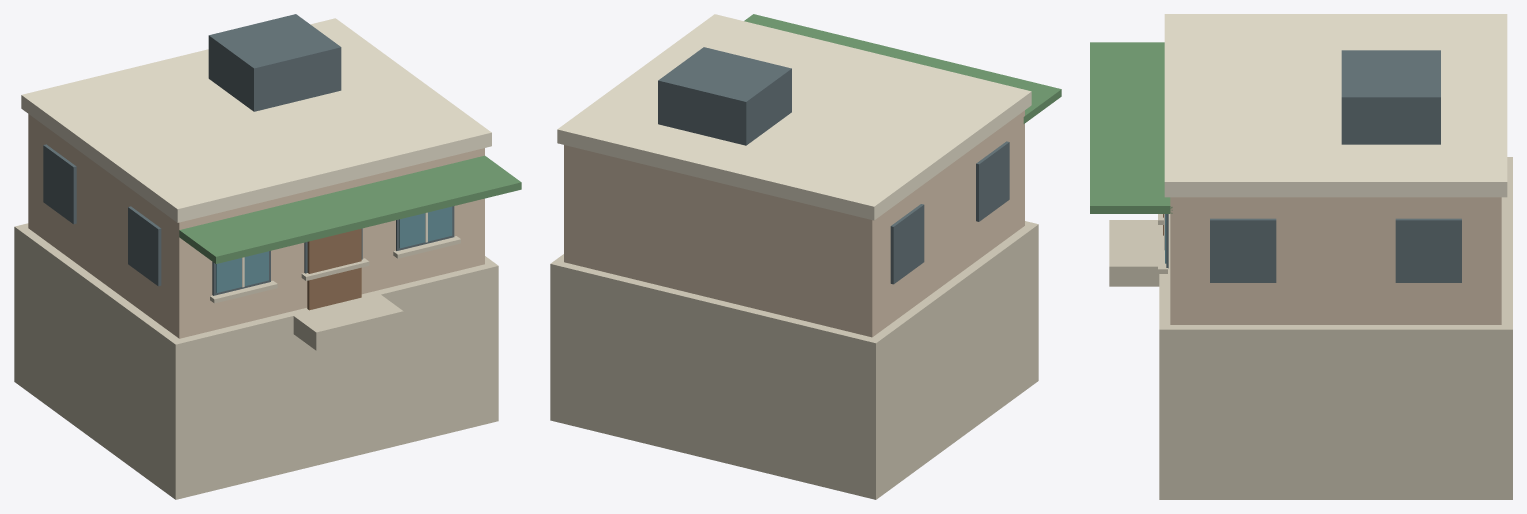
The model's file is shop-0.glb.
3 renders of one model, left to right at view 1: azimuth 30°, elevation 25°; view 2: azimuth 150°, elevation 25°; view 3: azimuth 270°, elevation 25°, orthographic. The views are drawn at different scales.
Size of the model in its own units: 1.85 by 1.81 by 1.91.
